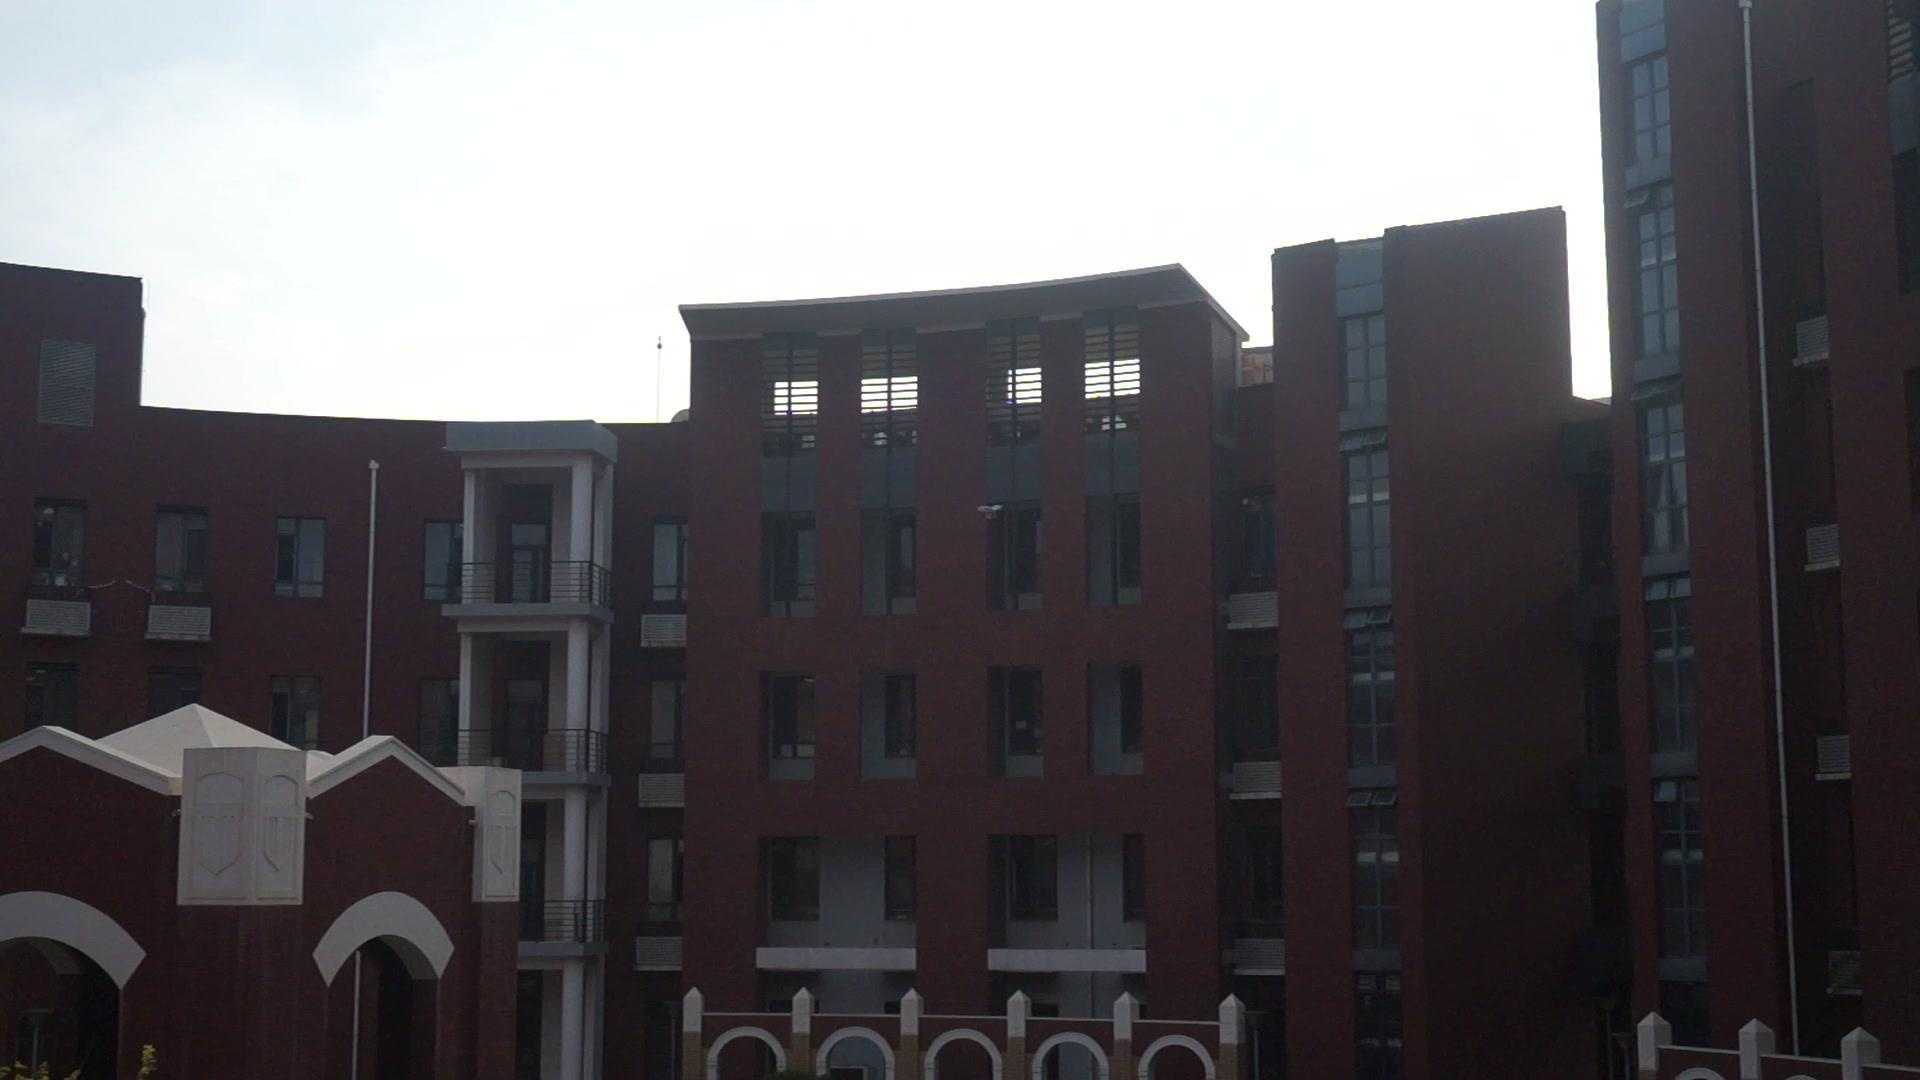UAV: (978, 505, 1005, 521)
